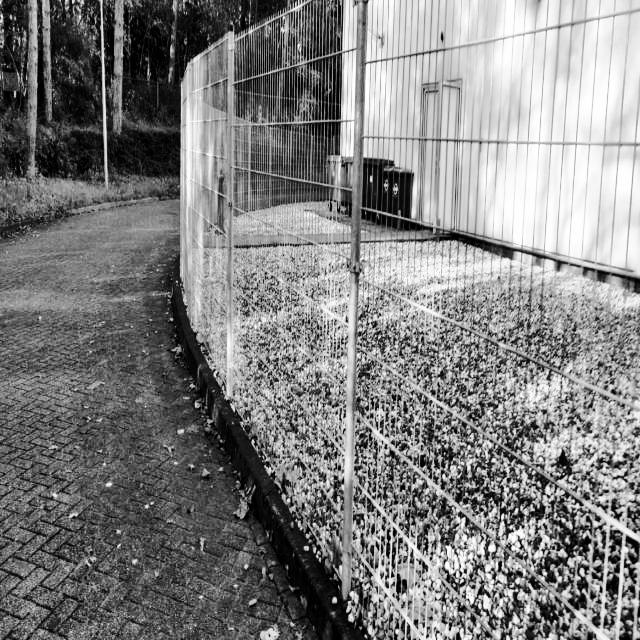fences: (181, 17, 640, 640)
